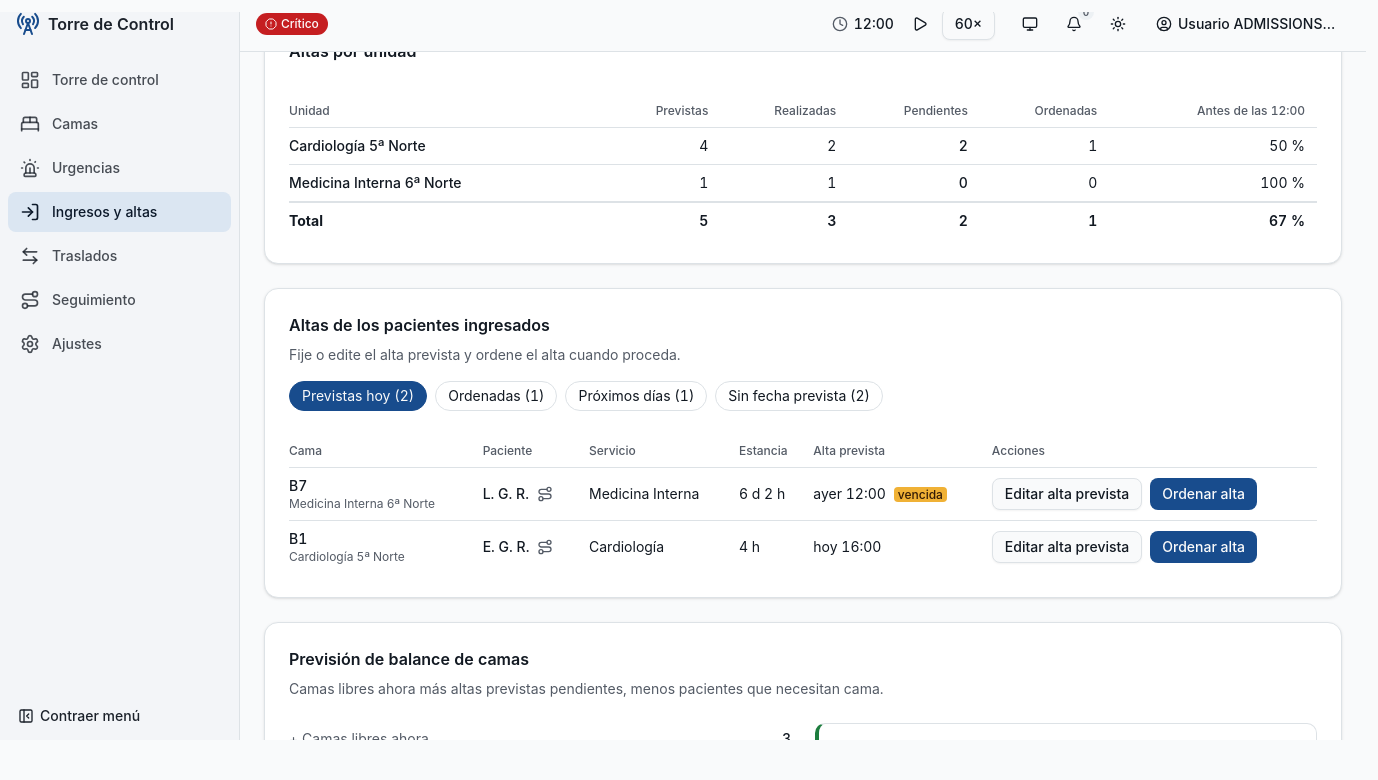
Test: discharge worklist (head) › has tabs with counts and starts on "previstas hoy", sorted with overdue first
(page scrolled)
Expected: the text "vencida" is shown, x1=894 y1=487 x2=947 y2=502
Click the tab "Ordenadas (1)" at {"x": 496, "y": 396}, box x1=435 y1=381 x2=557 y2=411
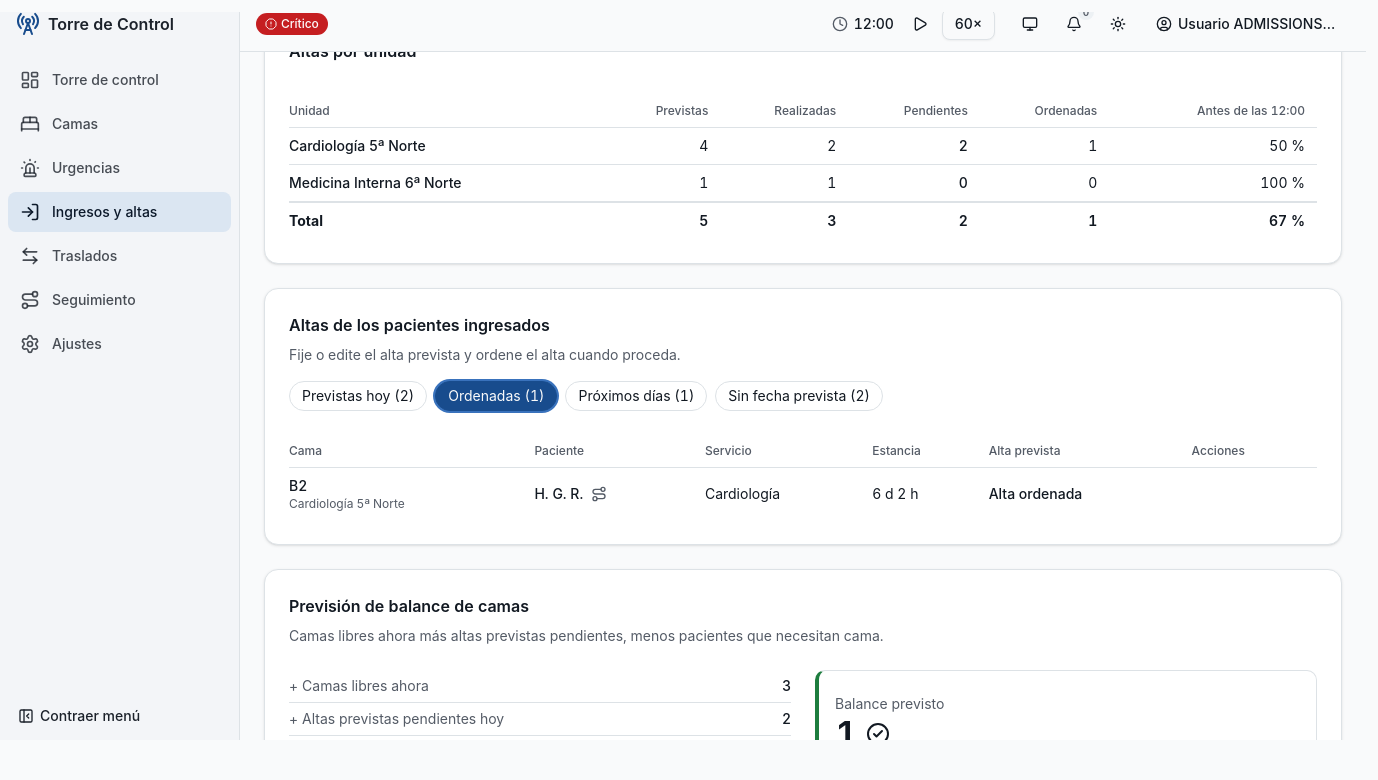
Now the button "Editar alta prevista" is gone
